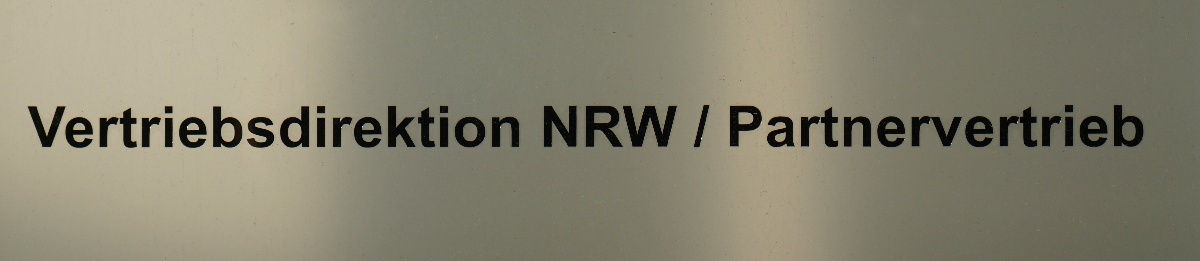text: (33, 106, 48, 149), (49, 106, 64, 149), (65, 106, 80, 149), (81, 106, 96, 149), (97, 106, 112, 149), (113, 106, 128, 149), (129, 106, 144, 149), (145, 106, 160, 149), (161, 106, 176, 149), (177, 106, 192, 149), (193, 106, 208, 149), (209, 106, 224, 149), (225, 106, 240, 149), (241, 106, 256, 149), (257, 106, 272, 149), (273, 106, 288, 149), (289, 106, 304, 149), (305, 106, 320, 149), (321, 106, 336, 149), (337, 106, 352, 149), (353, 106, 368, 149), (369, 106, 384, 149), (385, 106, 400, 149), (401, 106, 416, 149), (417, 106, 432, 149), (433, 106, 448, 149), (449, 106, 464, 149), (465, 106, 480, 149), (481, 106, 496, 149), (497, 106, 512, 149), (737, 105, 752, 148), (753, 105, 768, 148), (769, 105, 784, 148), (785, 105, 800, 148), (801, 105, 816, 148), (817, 105, 832, 148), (833, 105, 848, 148), (849, 105, 864, 148), (865, 105, 880, 148), (881, 105, 896, 148), (897, 105, 912, 148), (913, 105, 928, 148), (929, 105, 944, 148), (945, 105, 960, 148), (961, 105, 976, 148), (977, 105, 992, 148), (993, 105, 1008, 148), (1009, 105, 1024, 148), (1025, 105, 1040, 148), (1041, 105, 1056, 148), (1057, 105, 1072, 148), (1073, 105, 1088, 148), (1089, 105, 1104, 148), (1105, 105, 1120, 148), (1121, 105, 1136, 148), (545, 106, 560, 148), (561, 106, 576, 148), (577, 106, 592, 148), (593, 106, 608, 148), (609, 106, 624, 148), (625, 106, 640, 148), (641, 106, 656, 148), (657, 106, 672, 148), (693, 105, 704, 149), (1137, 105, 1147, 148), (513, 106, 521, 149), (729, 105, 736, 148), (673, 106, 680, 148), (705, 105, 711, 149), (26, 106, 32, 149), (542, 106, 544, 148)
